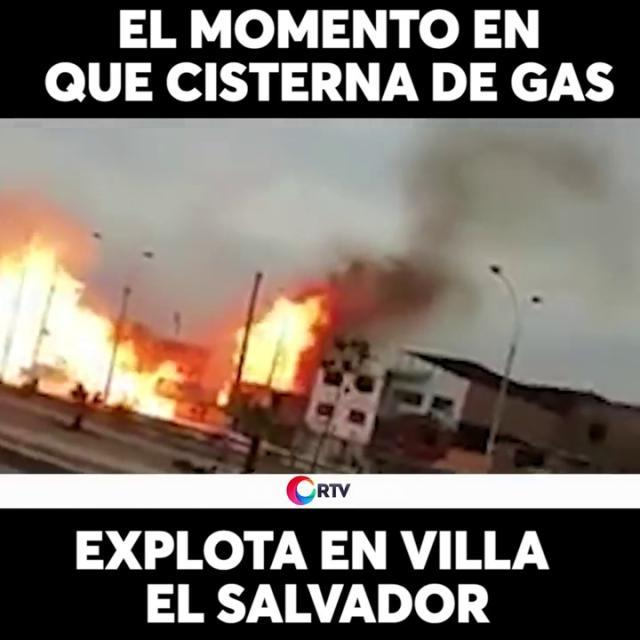Fire: (0, 225, 193, 424), (220, 286, 342, 401)
Smoke: (338, 118, 640, 362)
